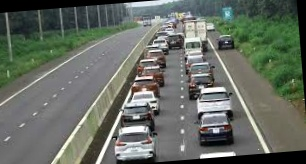Bien-so: (140, 113, 148, 120), (220, 131, 226, 137), (138, 147, 145, 152)
